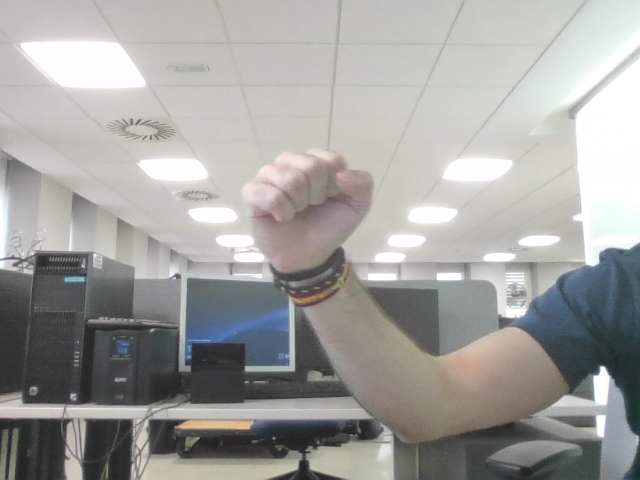Puño: (254, 158, 359, 234)
